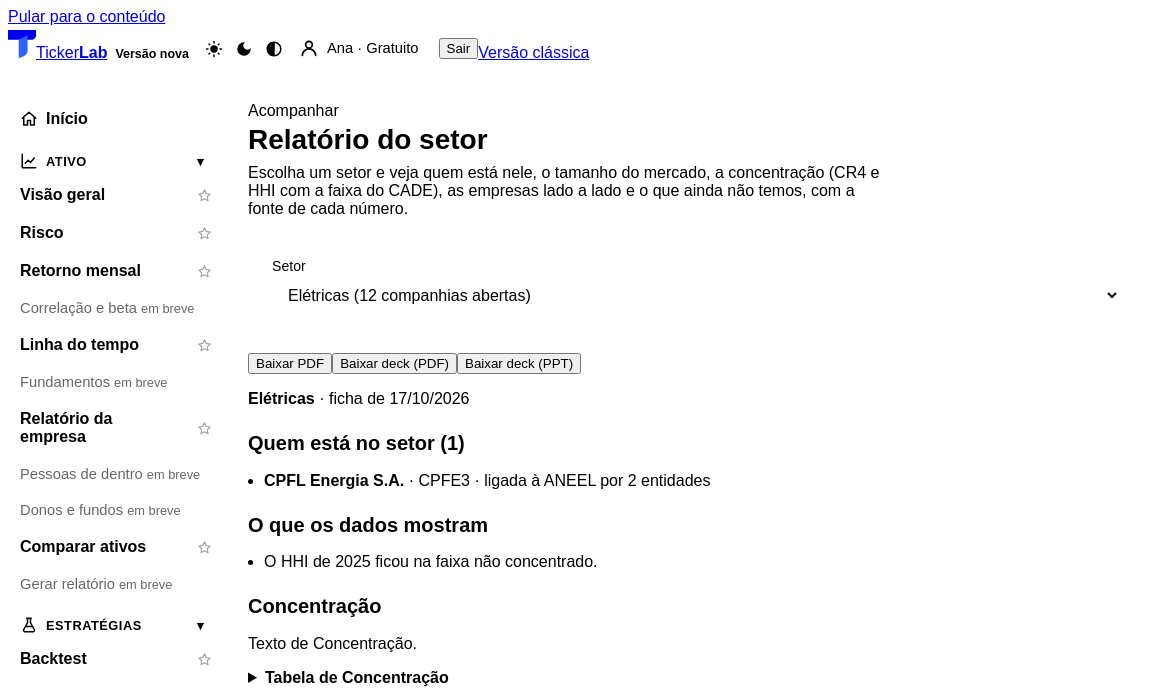
Test case: relatório do setor › Baixar PDF: se a API recusar, mostra a mensagem e não baixa nada
Click the button "Baixar PDF".
click(290, 364)  # box [248,353,332,374]
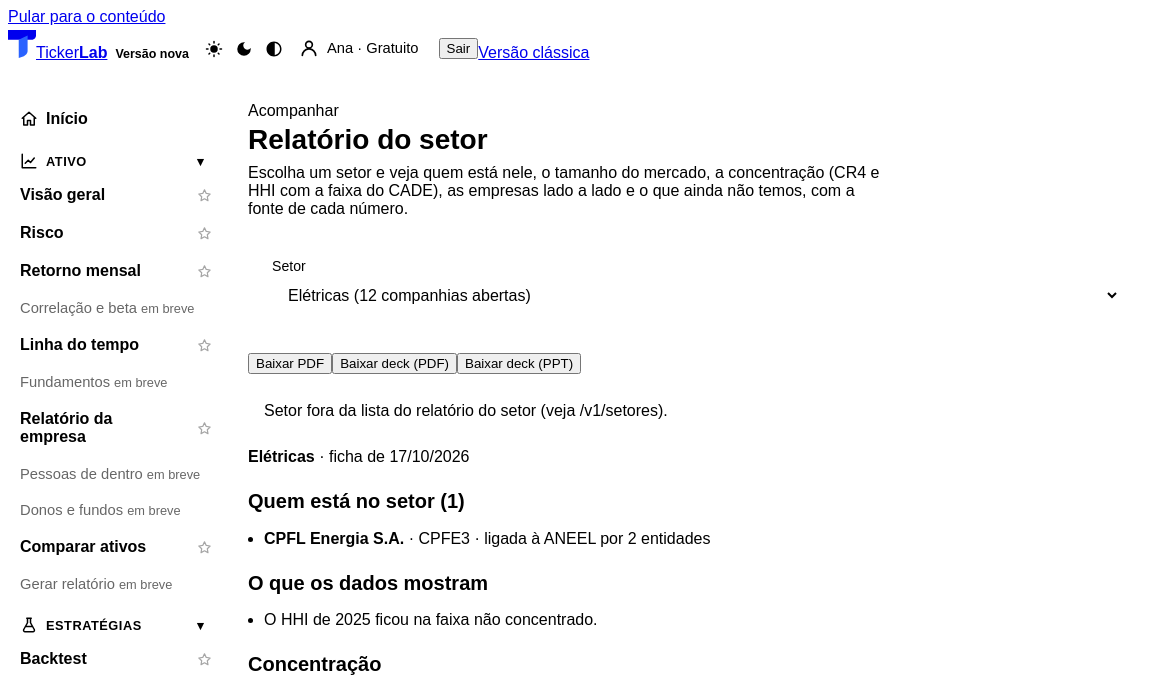
Expected: the message shows "Setor", [264,402,668,419]
